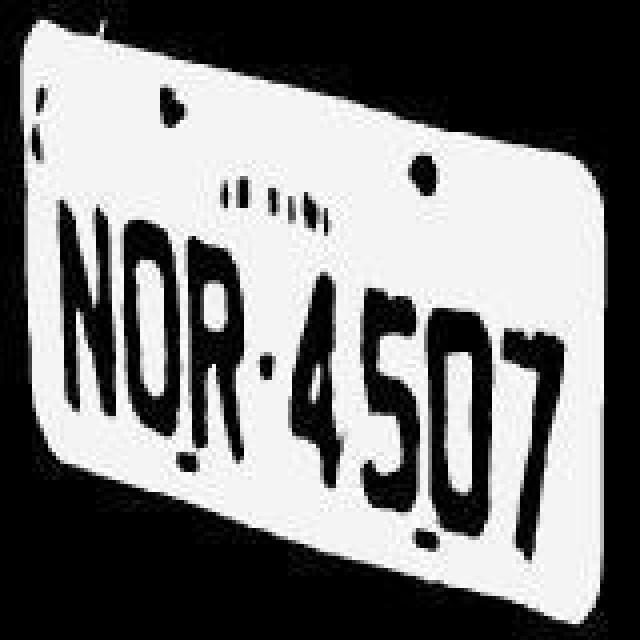4: (282, 260, 350, 508)
5: (348, 268, 420, 516)
7: (494, 312, 570, 568)
N: (42, 180, 118, 428)
O: (418, 290, 494, 542), (116, 210, 188, 438)
R: (186, 228, 262, 460)
